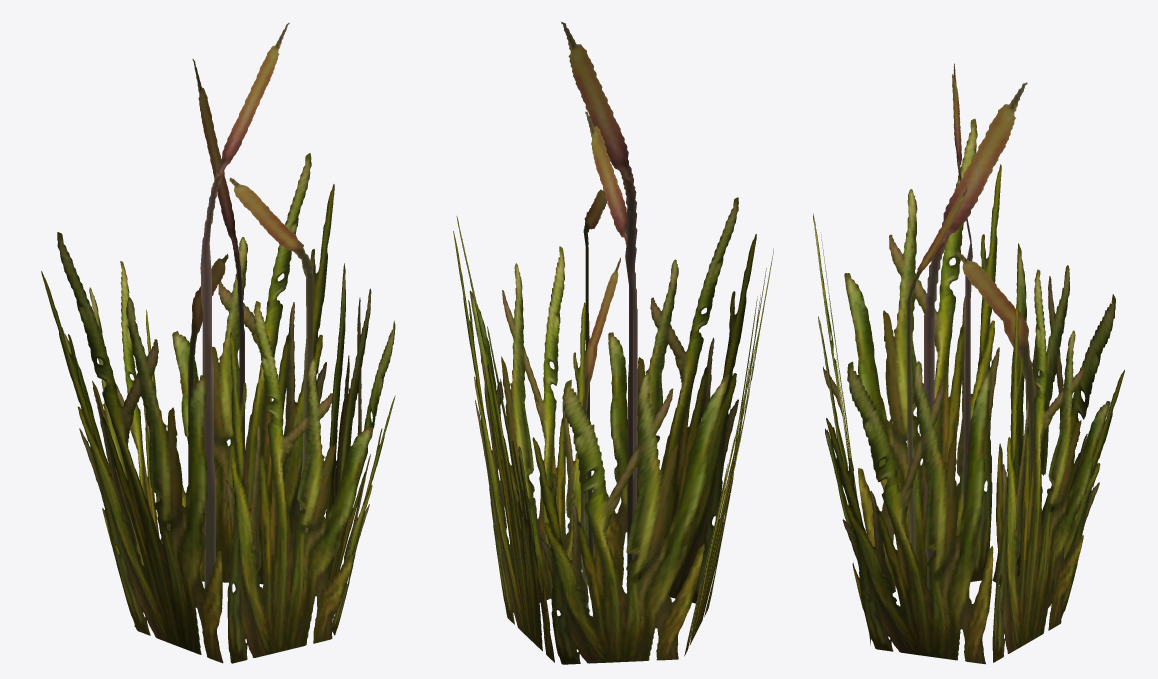
Rendered from swampplant05.glb.
3 renders of one model, left to right at view 1: azimuth 30°, elevation 25°; view 2: azimuth 150°, elevation 25°; view 3: azimuth 270°, elevation 25°, orthographic.
Size of the model in its own units: 2.28 by 3.84 by 1.99.
Materials: 2 (2 with a texture image).
